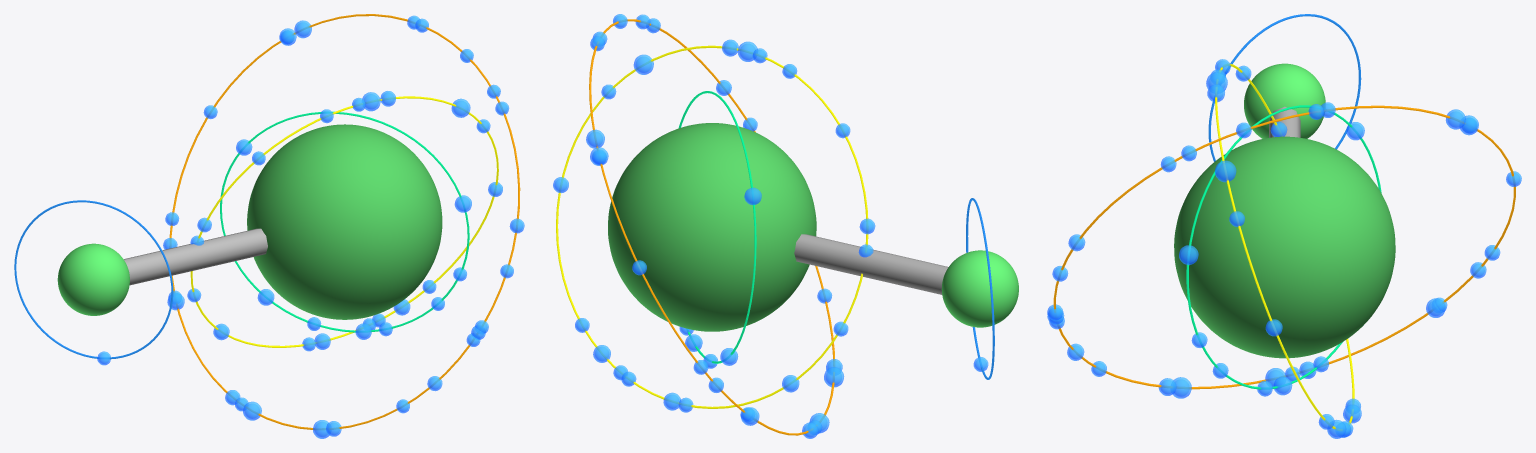
The picture shows the model from 3 angles, left to right: view 1: azimuth 30°, elevation 25°; view 2: azimuth 150°, elevation 25°; view 3: azimuth 270°, elevation 25°; orthographic projection. The views are drawn at different scales.
Visible parts, largest first — view 1: I, H, object 116, object 65, object 28, object 11, object 2; view 2: I, H, object 116, object 28, object 65, object 11, object 2; view 3: I, H, object 65, object 11, object 28, object 2, object 116.
Boxes of the visible parts, x1,y1,x2,y2 form: I: (247, 124, 442, 319); H: (57, 243, 129, 315); object 116: (124, 228, 267, 285); object 65: (169, 14, 520, 429); object 28: (190, 96, 498, 347); object 11: (220, 111, 469, 332); object 2: (14, 200, 173, 359); I: (608, 123, 816, 331); H: (941, 250, 1018, 327); object 116: (794, 234, 948, 294); object 28: (556, 45, 868, 408); object 65: (589, 19, 834, 435); object 11: (678, 91, 756, 363); object 2: (966, 198, 994, 379); I: (1174, 136, 1395, 358); H: (1244, 63, 1325, 138); object 65: (1053, 105, 1515, 389); object 11: (1186, 105, 1381, 389); object 28: (1215, 64, 1354, 429); object 2: (1208, 14, 1361, 161); object 116: (1269, 106, 1300, 137).
Bounding box in the file's own units: 7.38 × 5.36 × 5.94.
